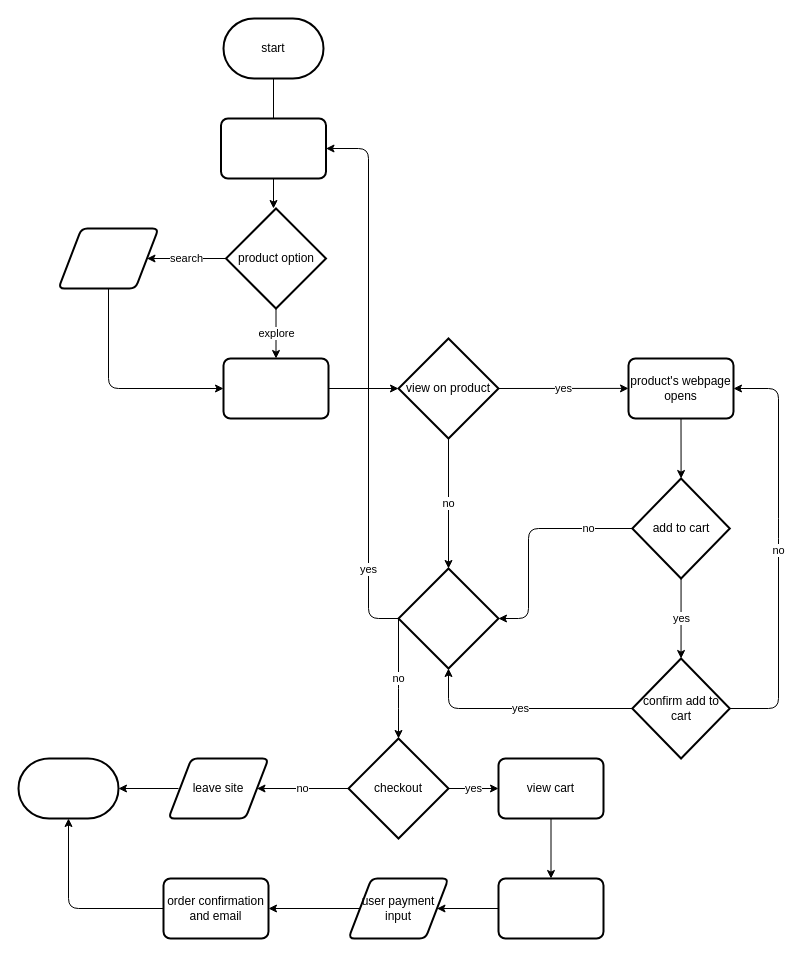
Image size: 804x956. Some labels were removed from this diagram. The shapes that lost their labels are listed below. From the top down, each one's box as (x1, y1, x2, y2) in pixels, then its label:
(220, 117, 326, 179): user enters website
(57, 227, 159, 289): user inputs product
(222, 357, 329, 419): user looks over products
(397, 567, 499, 669): continue shopping
(17, 757, 119, 819): end
(497, 877, 604, 939): view payment
